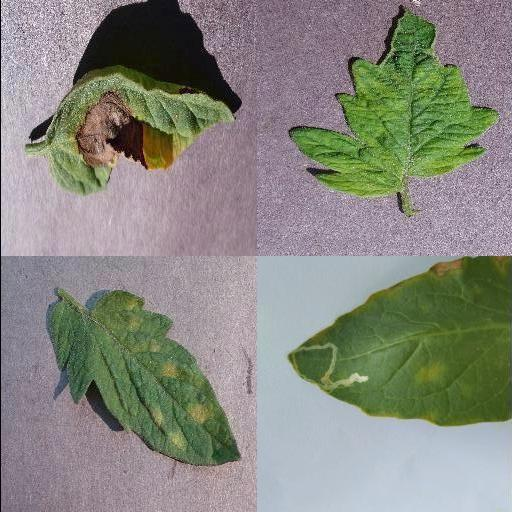Early Blight: (37, 67, 241, 196)
Leaf Miner: (284, 256, 512, 427)
Leaf Mold: (44, 291, 240, 467)
Mosaic Virus: (286, 5, 502, 197)
